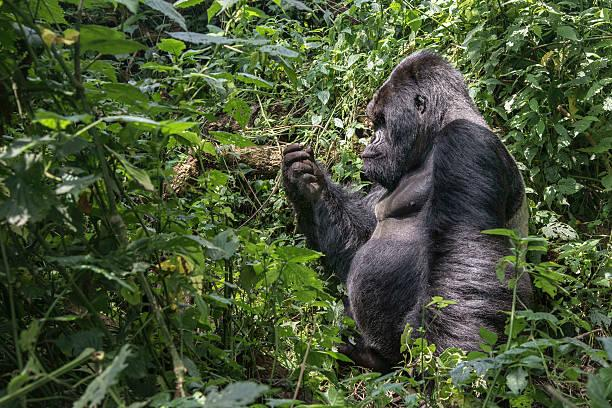goriile_montagne: (284, 49, 551, 371)
